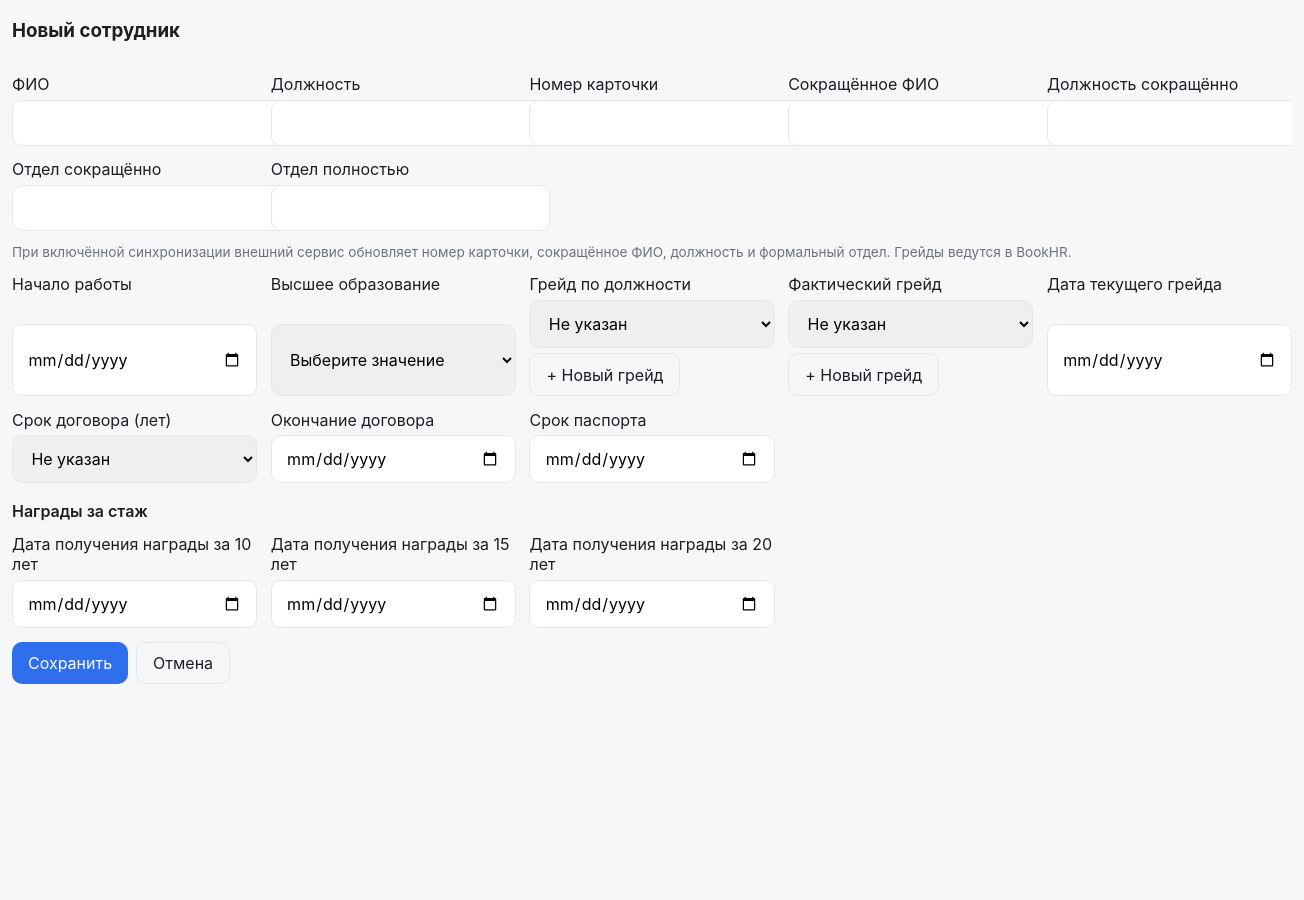
Test case: EmployeeForm › requires both contract fields when one is filled
This screenshot has width=1304, height=900.
Type "Петров Петр" into the field labelled "ФИО" at (151, 123), box [12, 100, 291, 146]
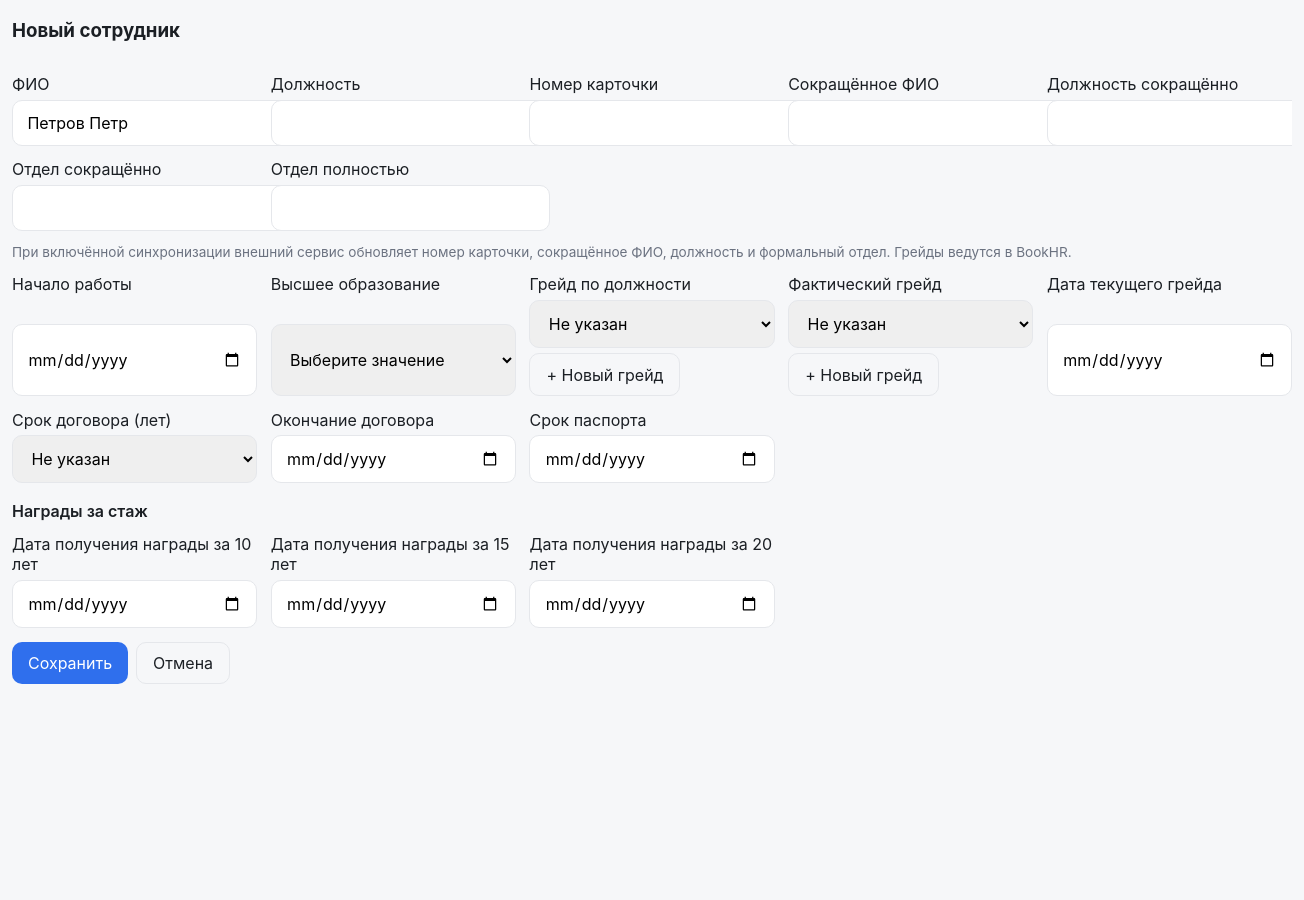
Select "Есть" in the dropdown labelled "Высшее образование" at (393, 360), box [271, 324, 516, 396]
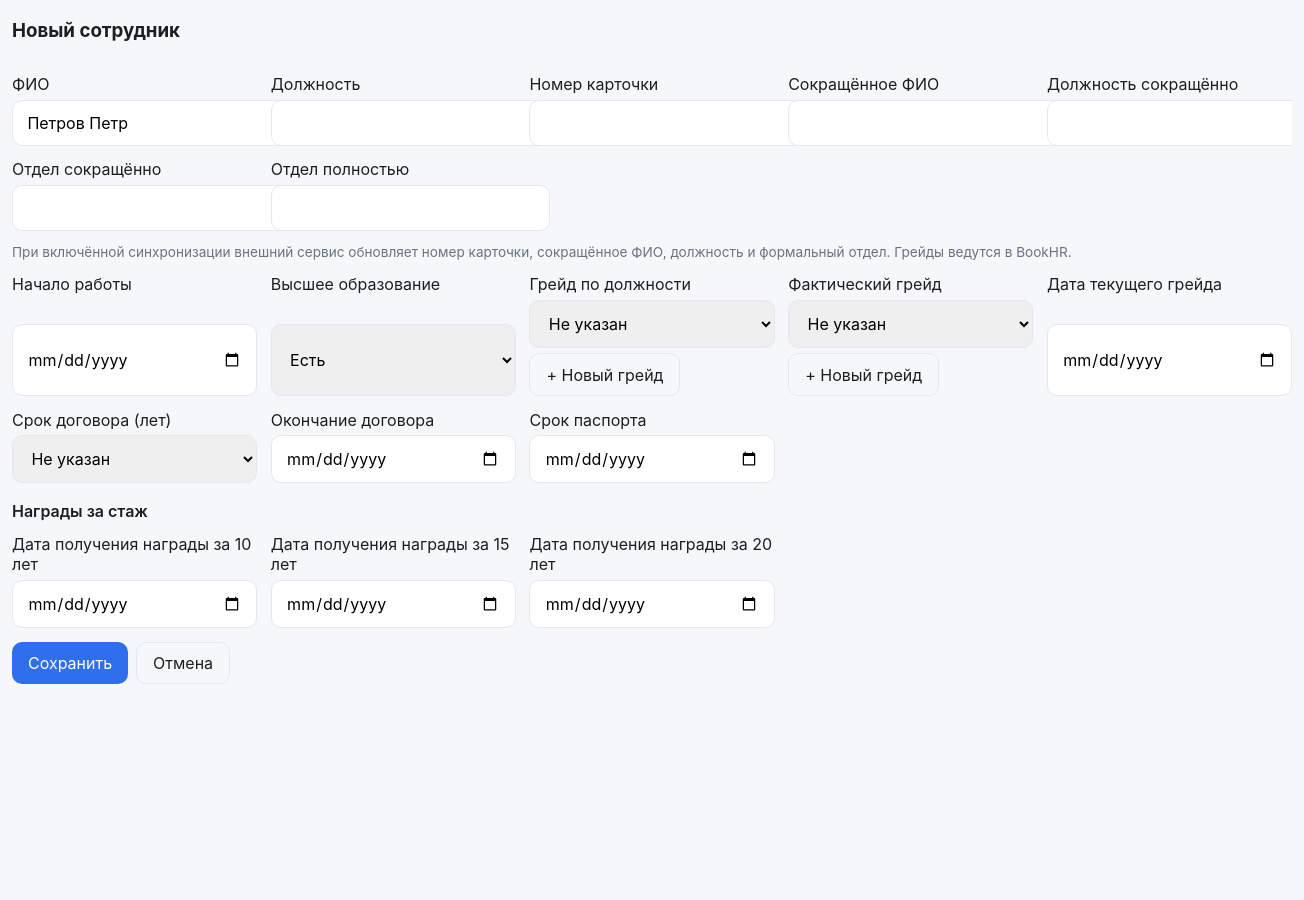
Type "2024-09-01" into the date field labelled "Начало работы" at (135, 360), box [12, 324, 257, 396]
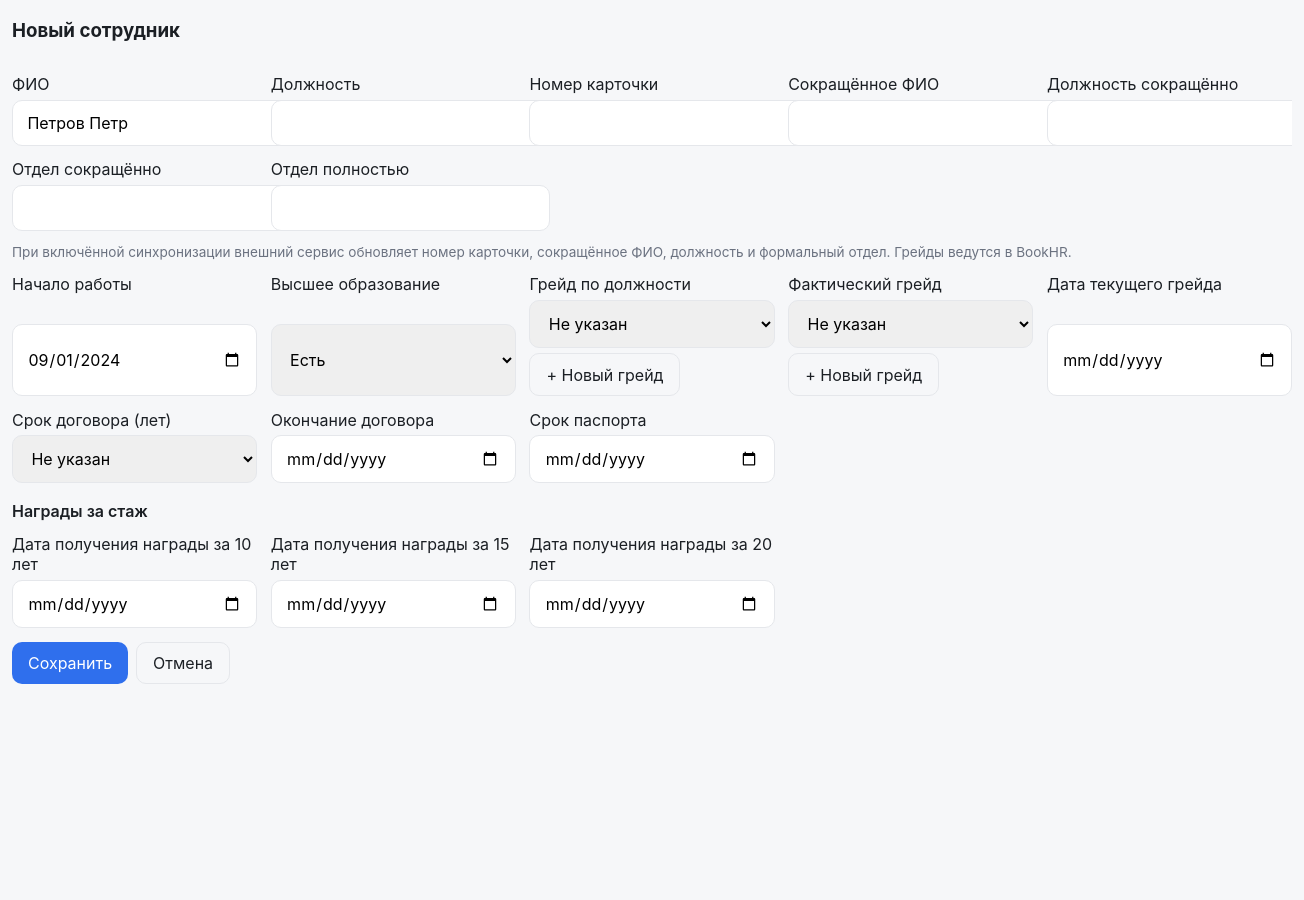
Select "2 года" in the dropdown labelled "Срок договора (лет)" at (135, 459), box [12, 435, 257, 483]
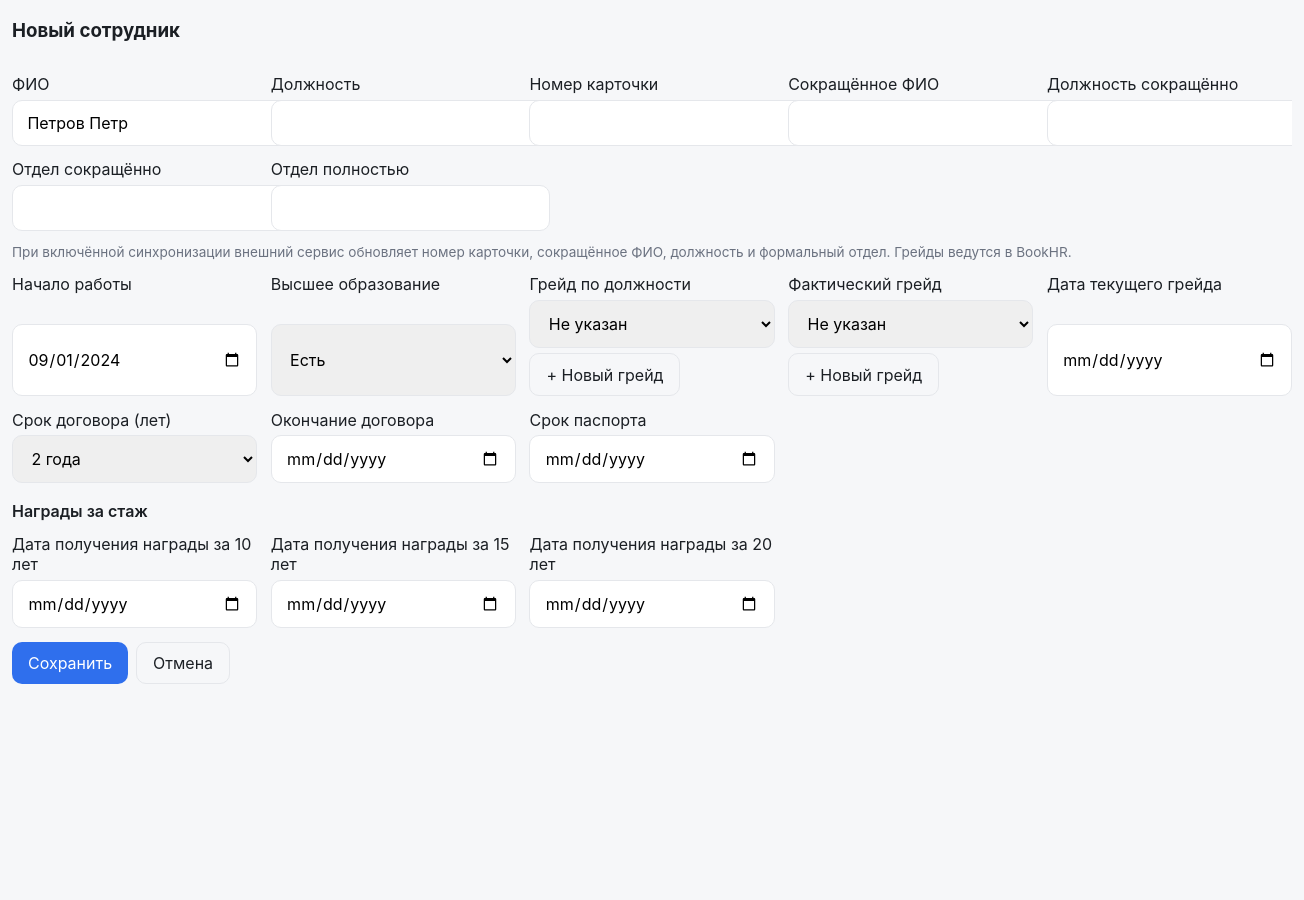
Submit the form
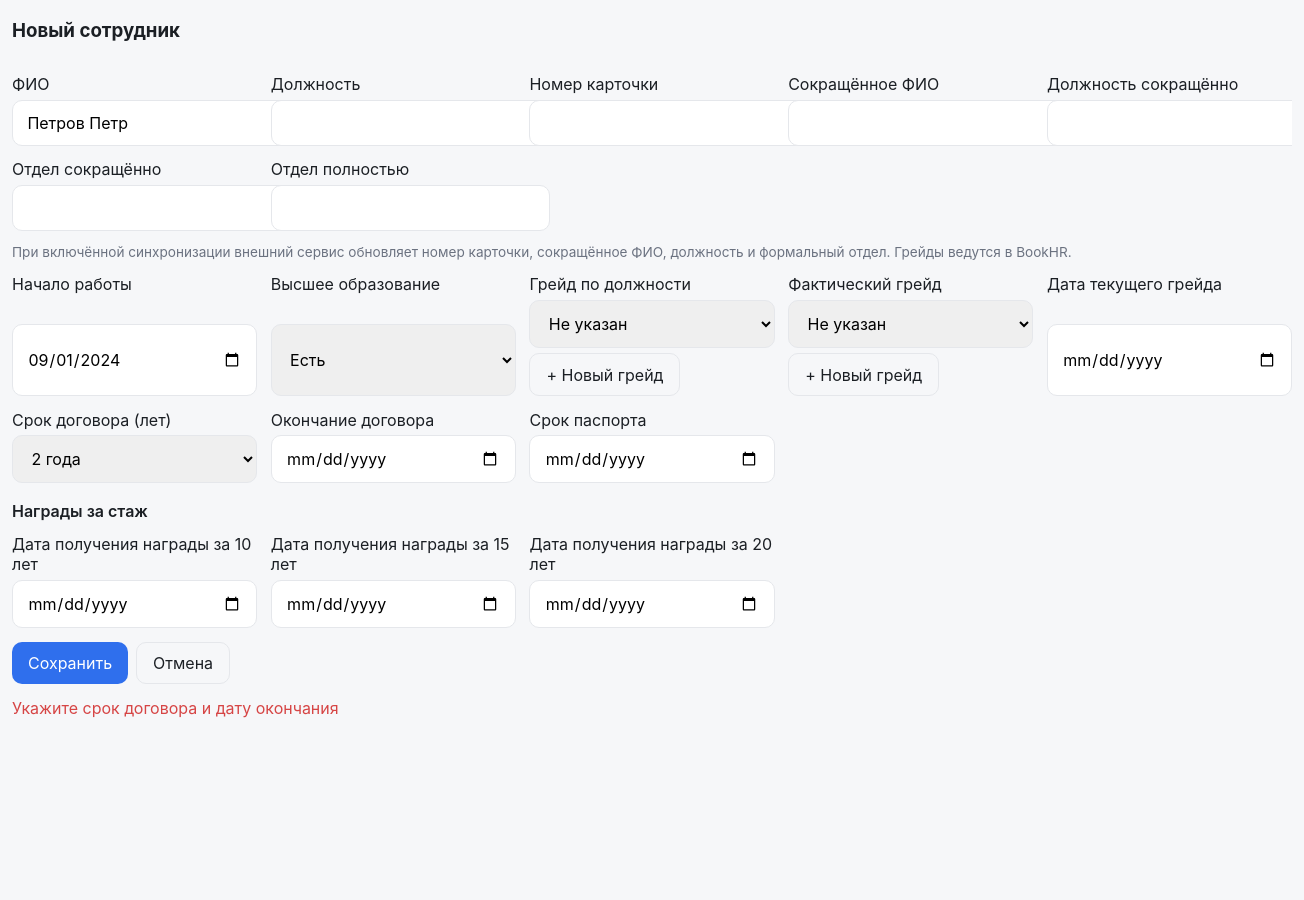
Check: the form shows "Укажите срок договора и дату окончания", box [12, 698, 339, 718]
